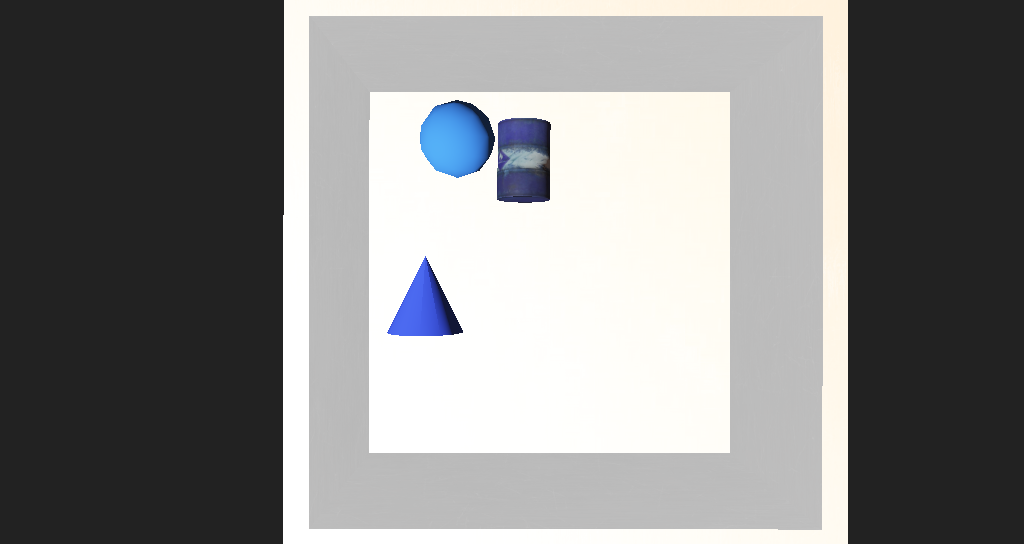cone: (461, 177, 509, 224)
cylinder: (364, 258, 431, 305)
sphere: (401, 169, 461, 212)
